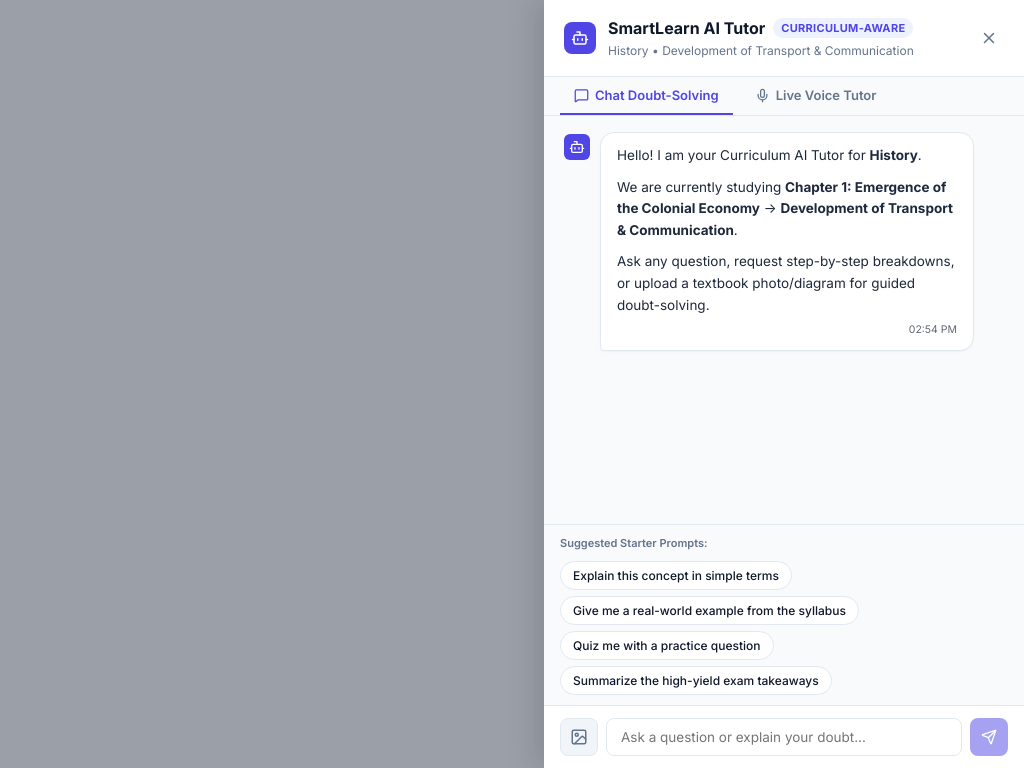
Test case: TutorDrawer Component (Text & Real-Time Voice) › switches to Live Voice mode and starts voice session with mic and WebSocket
Click the tab "Live Voice Tutor". click: [816, 96]
box: 741,77 -> 890,115
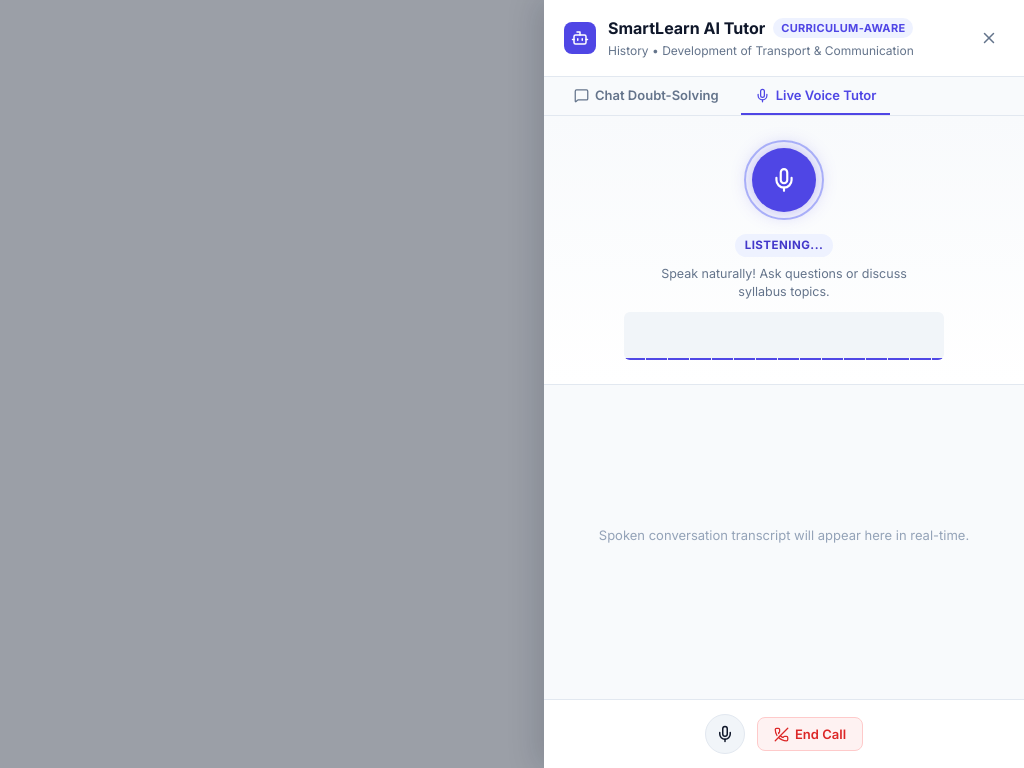
Expected: the text "Listening..." is shown, 735,234 -> 833,257
